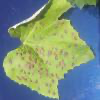grape leaf black rot: (4, 1, 96, 99)
